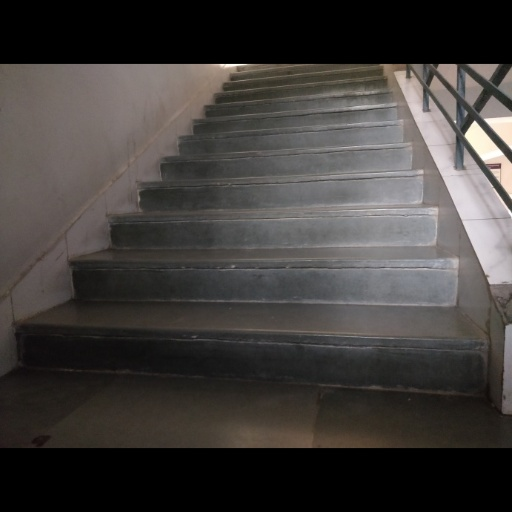Stairs: (17, 66, 486, 394)
